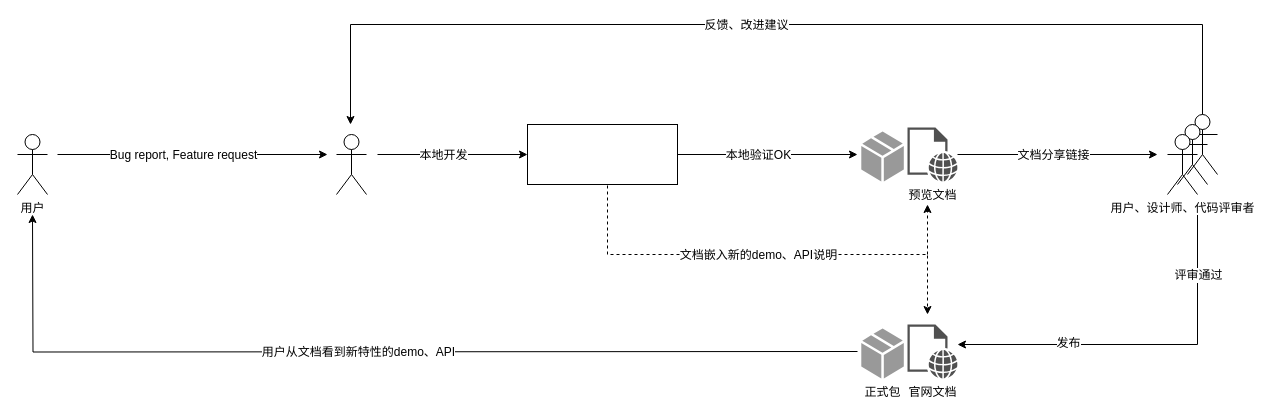
The diagram is 1272 pixels wide and 417 high, and some of its shapes have lost their labels. Here are the shapes that lost their labels. From the top down, the centre of each, then its label:
At [351,164]: "物料开发者".
At [602,154]: "用于复现问题的demo、 调试新特性的demo、 新特性增加的API".
At [882,156]: "预览包".
